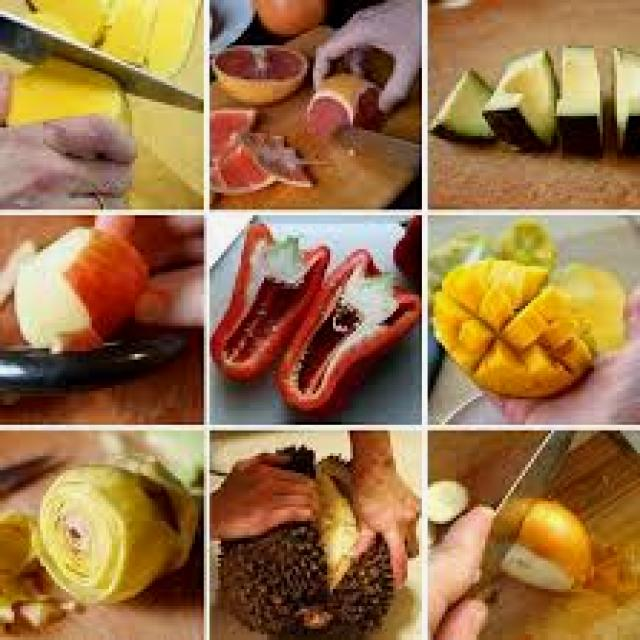inorganic: (474, 437, 533, 585), (328, 123, 419, 189)
organic: (218, 250, 403, 398), (210, 43, 388, 195), (47, 454, 182, 580), (15, 218, 138, 350), (454, 56, 636, 134), (18, 0, 200, 78), (427, 284, 585, 368), (12, 58, 127, 127), (255, 0, 328, 37)
